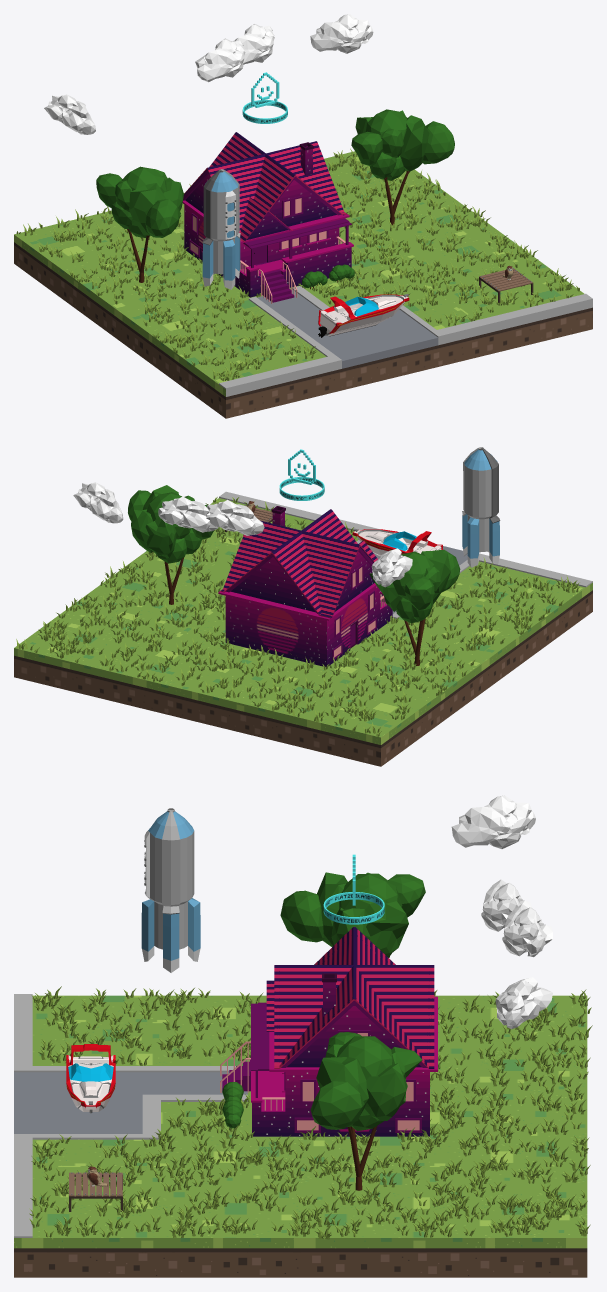
3 views of the same model, one above another, from view 1: azimuth 30°, elevation 25°; view 2: azimuth 150°, elevation 25°; view 3: azimuth 270°, elevation 25° (orthographic). The views are drawn at different scales.
Parts seen in each view (by area): view 1: Cube.006, Circle.012_Grass_0.192, Cube.156, Cube.007, tree, tree.001, OBJRANDOM_ROCKETSHIP, VEHICLES_BOAT, TYPE_PREMIUM, Cube.009; view 2: Cube.006, Cube.156, Circle.012_Grass_0.192, Cube.007, OBJRANDOM_ROCKETSHIP, tree.001, tree, VEHICLES_BOAT, TYPE_PREMIUM; view 3: Cube.006, Circle.012_Grass_0.192, Cube.156, tree, Cube.007, OBJRANDOM_ROCKETSHIP, tree.001, VEHICLES_BOAT, Cube.009, TYPE_PREMIUM.
Part boxes in pixels (box(x1,y1,x2,y2)): Cube.006: box(14, 151, 592, 418); Circle.012_Grass_0.192: box(16, 148, 579, 381); Cube.156: box(182, 132, 353, 303); Cube.007: box(44, 14, 373, 134); tree: box(351, 109, 454, 225); tree.001: box(96, 166, 183, 282); OBJRANDOM_ROCKETSHIP: box(202, 169, 240, 289); VEHICLES_BOAT: box(318, 294, 409, 337); TYPE_PREMIUM: box(242, 72, 287, 123); Cube.009: box(479, 268, 533, 302); Cube.006: box(14, 491, 592, 766); Cube.156: box(218, 506, 392, 666); Circle.012_Grass_0.192: box(16, 497, 579, 736); Cube.007: box(73, 482, 412, 587); OBJRANDOM_ROCKETSHIP: box(462, 447, 500, 567); tree.001: box(369, 549, 460, 665); tree: box(128, 485, 213, 604); VEHICLES_BOAT: box(352, 528, 442, 555); TYPE_PREMIUM: box(279, 449, 324, 500); Cube.006: box(14, 994, 587, 1277); Circle.012_Grass_0.192: box(29, 986, 592, 1239); Cube.156: box(220, 927, 437, 1136); tree: box(310, 1032, 422, 1190); Cube.007: box(451, 795, 552, 1029); OBJRANDOM_ROCKETSHIP: box(141, 808, 200, 972); tree.001: box(280, 872, 425, 957); VEHICLES_BOAT: box(66, 1044, 115, 1113); Cube.009: box(69, 1172, 122, 1211); TYPE_PREMIUM: box(323, 854, 384, 924).
Size of the model in its own units: 4071 by 2304 by 4040.
35 materials, 6 textured.
